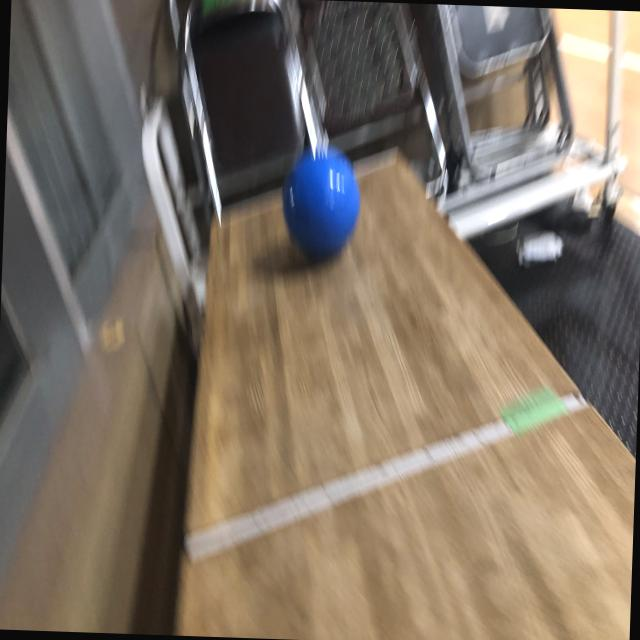blue_ball: (284, 150, 360, 249)
